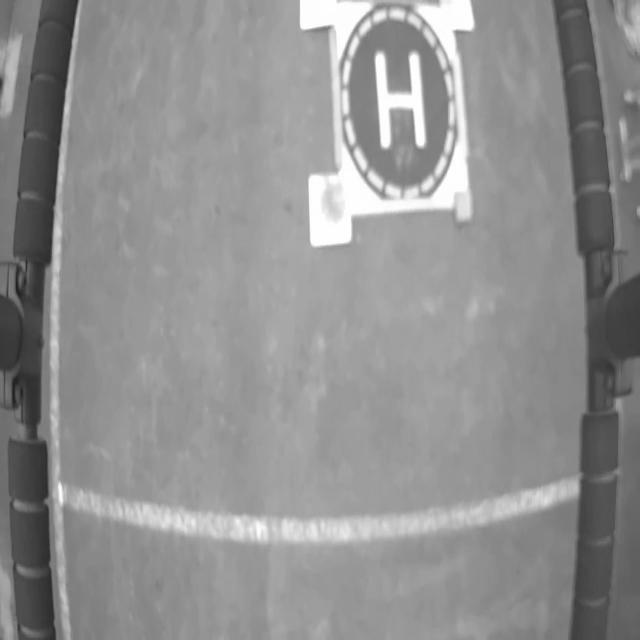Helipad: (375, 51, 429, 153)
